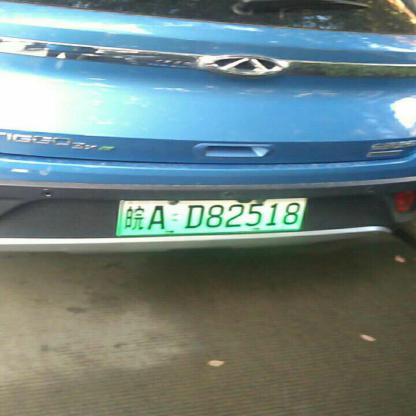lp: (119, 197, 306, 234)
